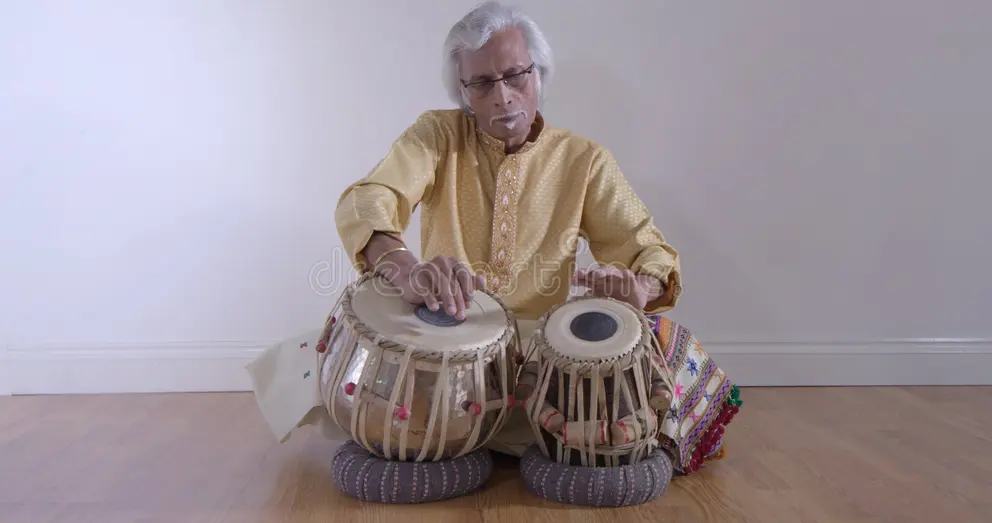tabla: (312, 267, 517, 457), (529, 296, 663, 469)
